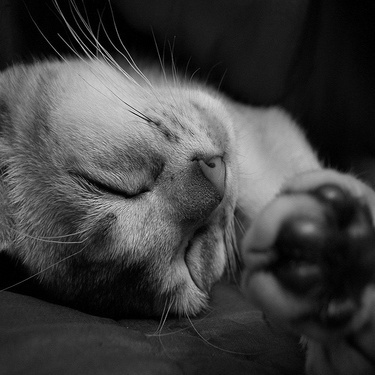cat: (4, 48, 372, 337)
